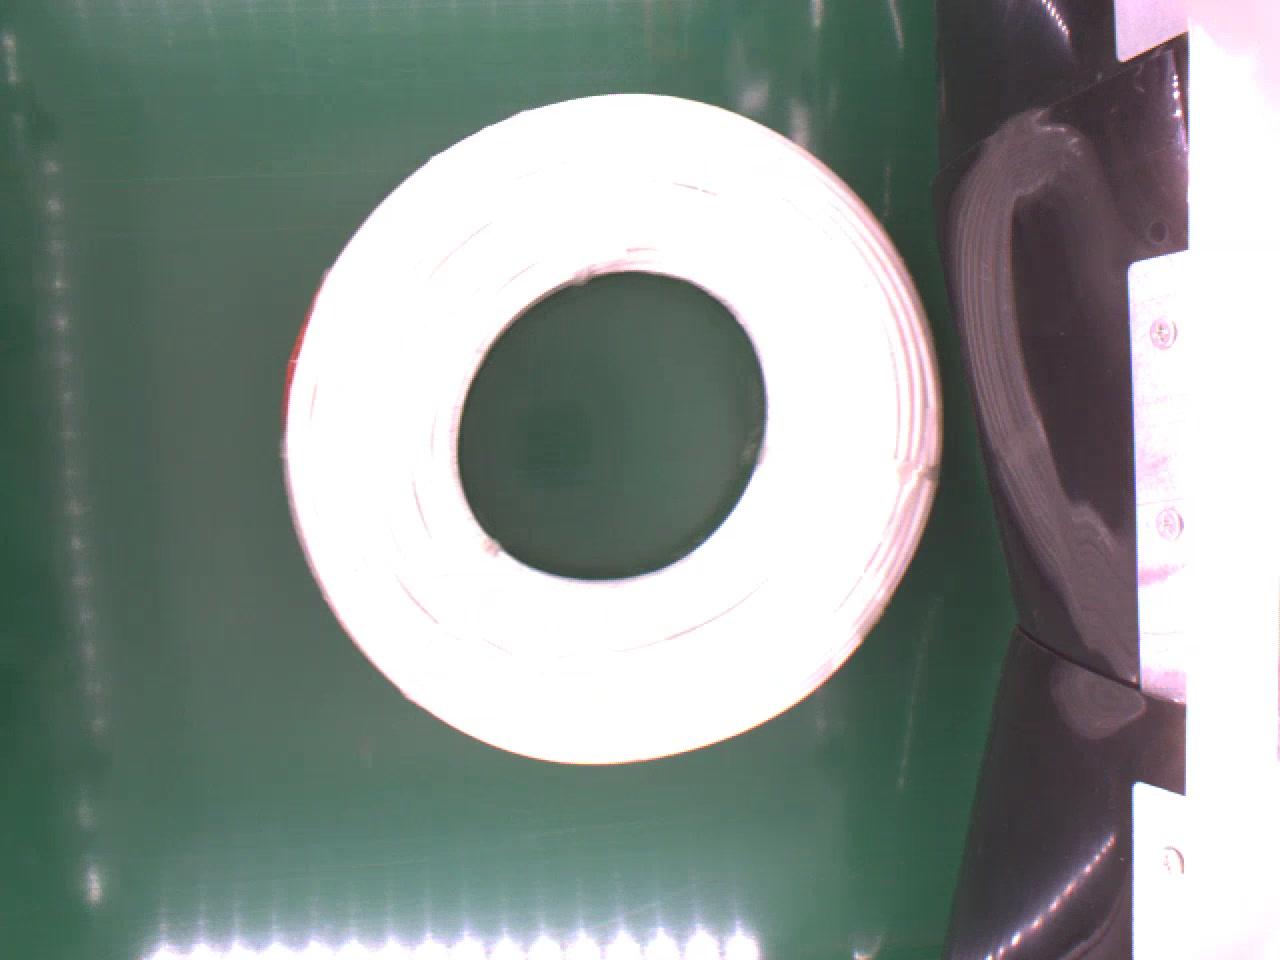white: (271, 83, 955, 776)
